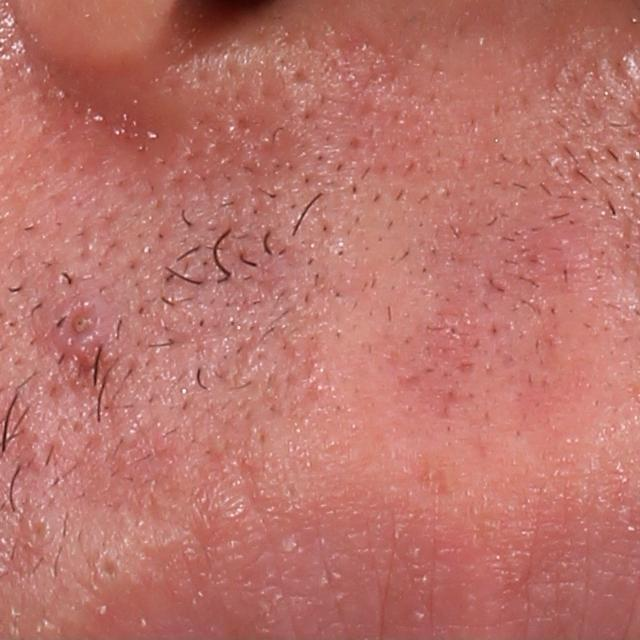comedo: (92, 553, 130, 589)
